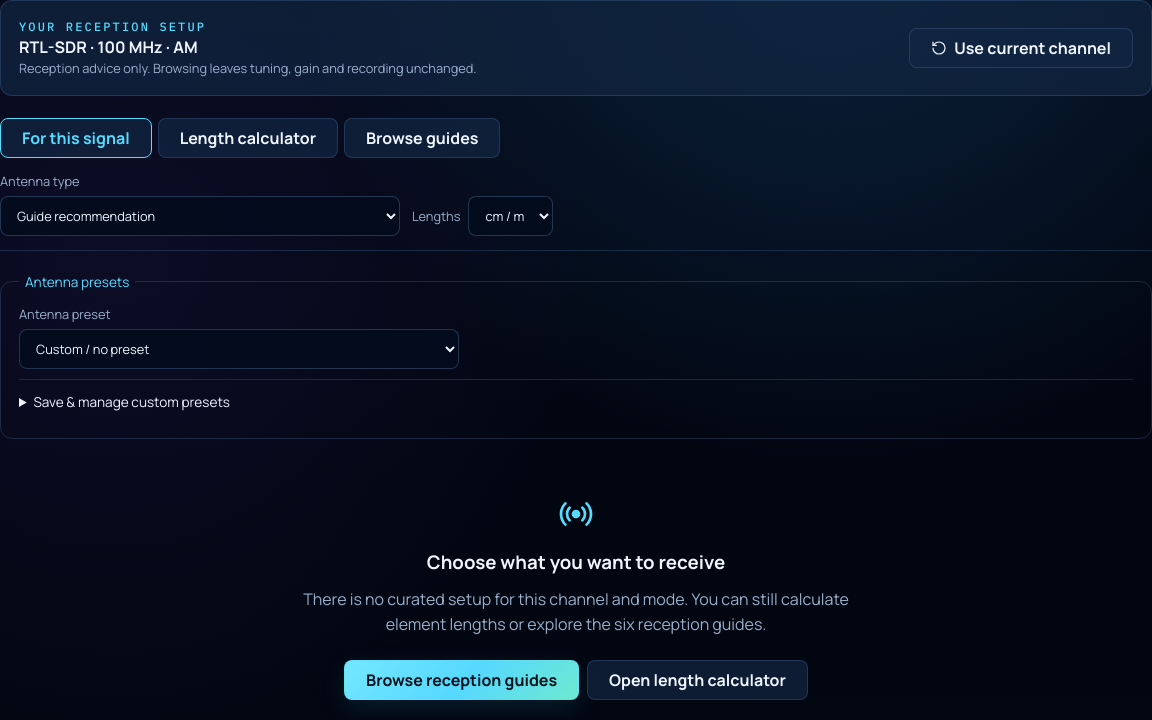
Test case: provides generic monopole dimensions for an uncatalogued mode without claiming a signal identity
Select "Telescopic monopole / magnetic base" in the dropdown labelled "Antenna type" at (200, 216), box [0, 196, 400, 236]
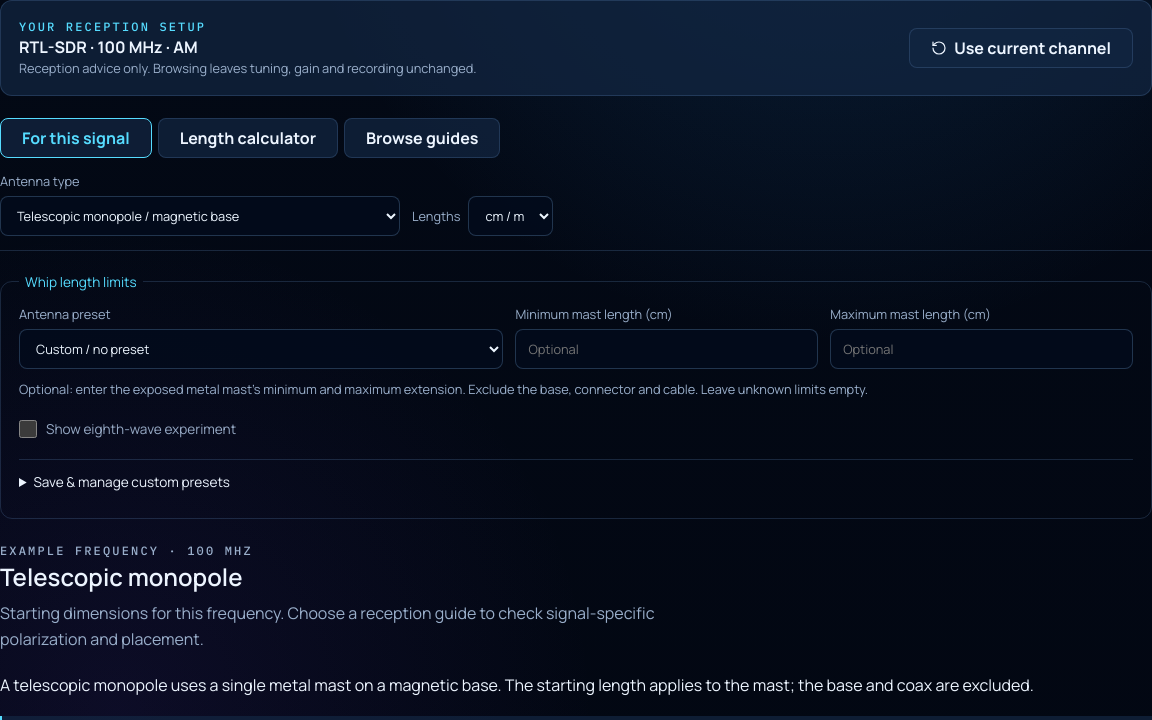
Result: the heading "Telescopic monopole" is shown at [0, 560, 242, 593]
Result: the element that starts with "EXAMPLE FREQUENCY" shows "check signal-specific polarization" at [0, 602, 654, 650]
